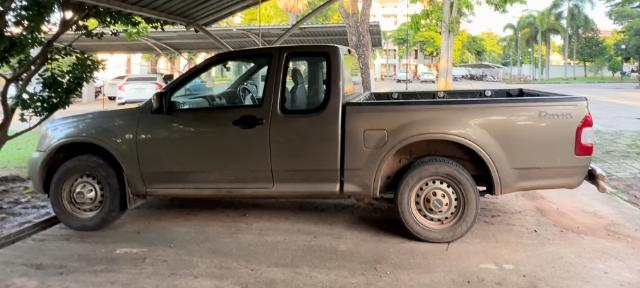pickup-truck: (30, 41, 608, 245)
